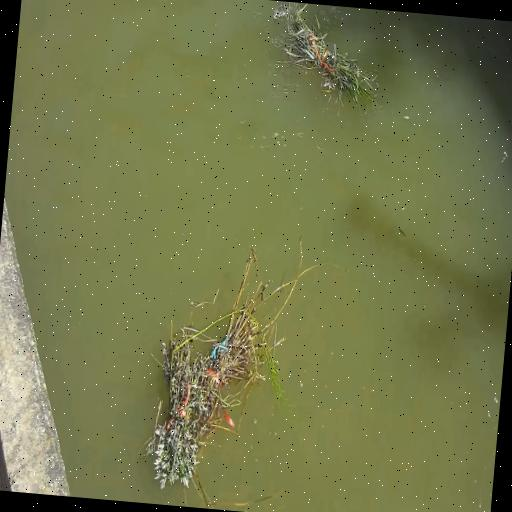twig: (147, 249, 305, 484), (274, 2, 376, 106)
